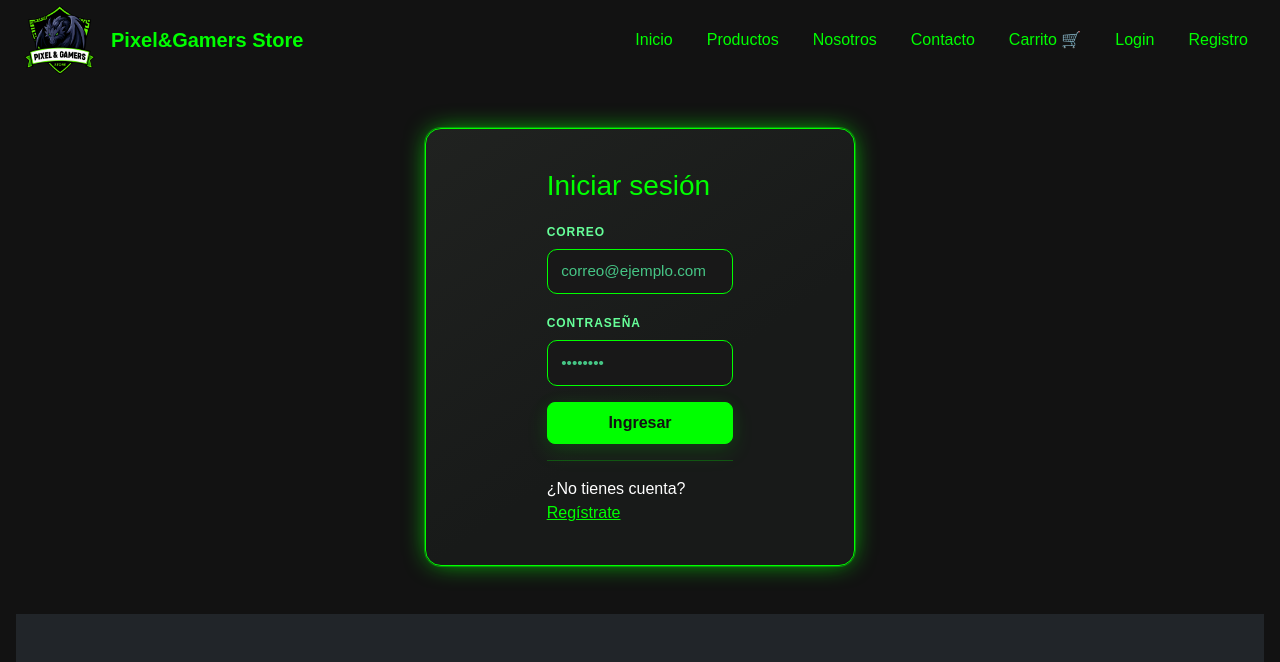
Test: Componente Login › muestra mensaje de error si el login falla
The width and height of the screenshot is (1280, 662).
In the field labelled "Correo": (640, 271) x1=547 y1=249 x2=733 y2=294, type "noexiste@correo.com"
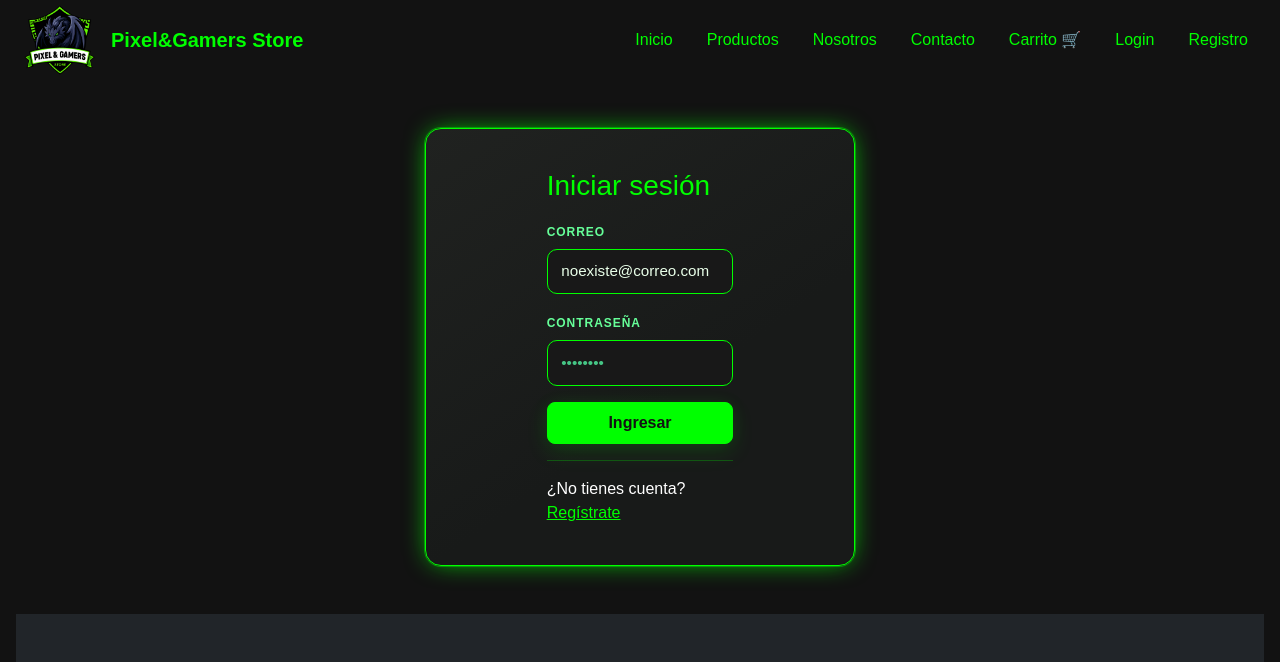
In the password field labelled "Contraseña": (640, 363) x1=547 y1=340 x2=733 y2=386, type "incorrecta"
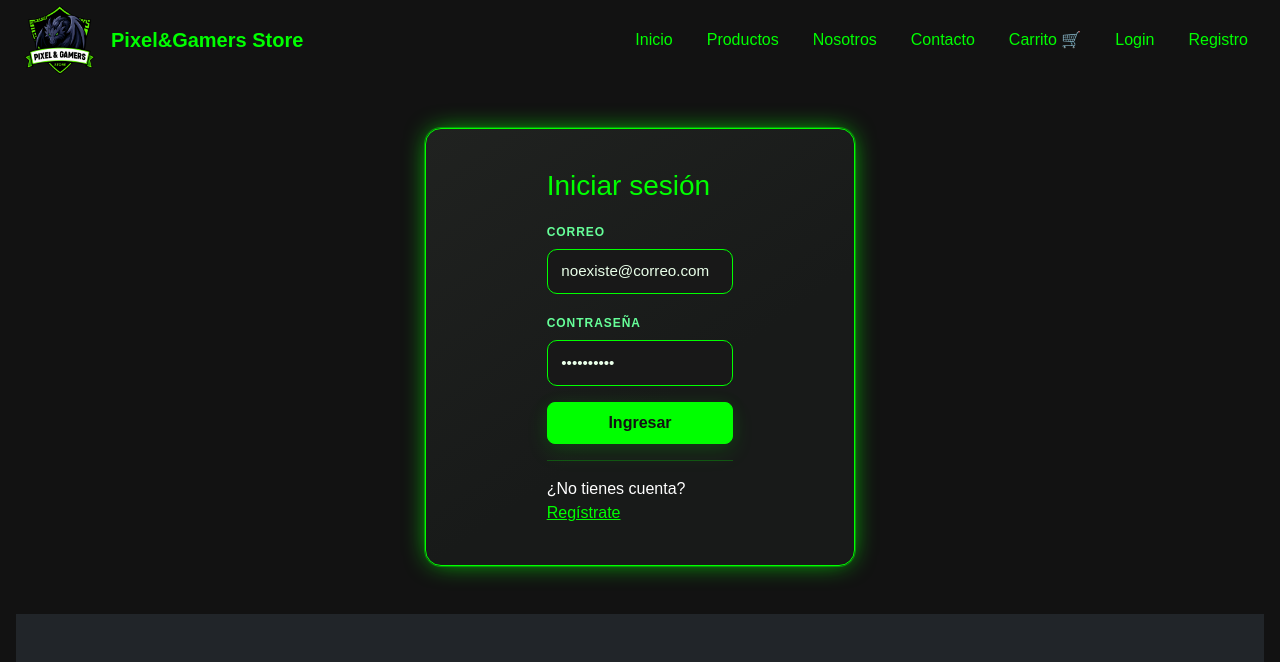
Click the button "Ingresar": (640, 423) x1=547 y1=402 x2=733 y2=444
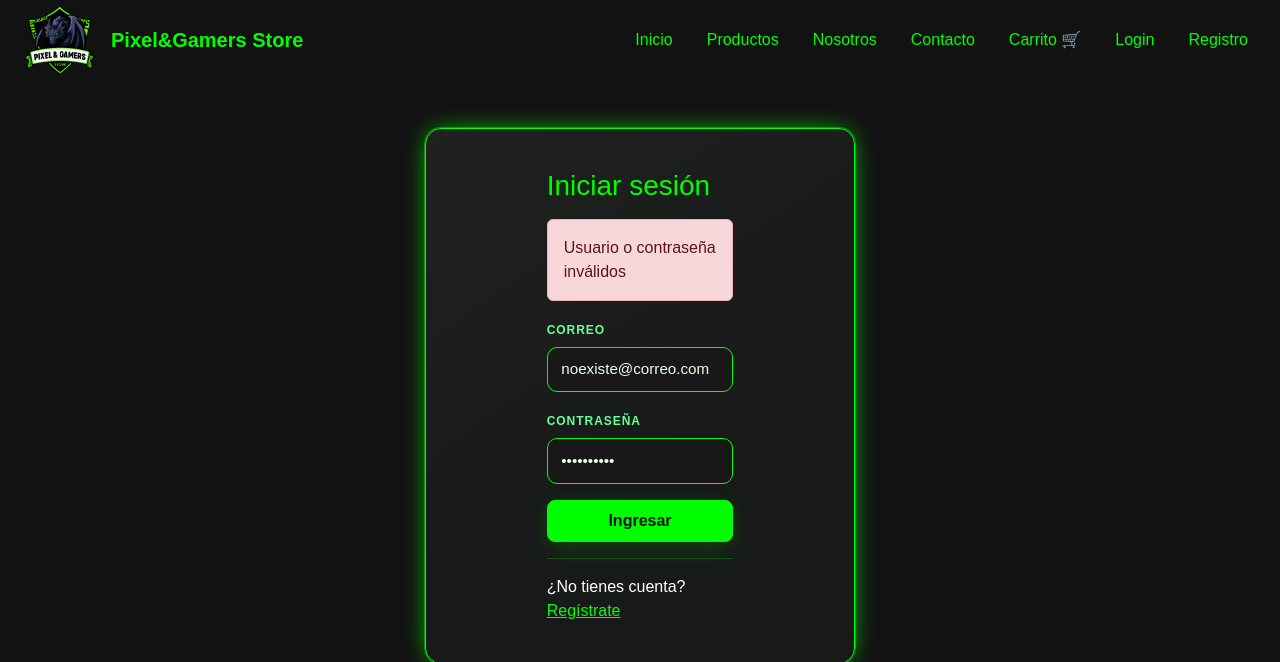
Now the text "Usuario o contraseña inválidos" is shown, box x1=547 y1=219 x2=733 y2=301
